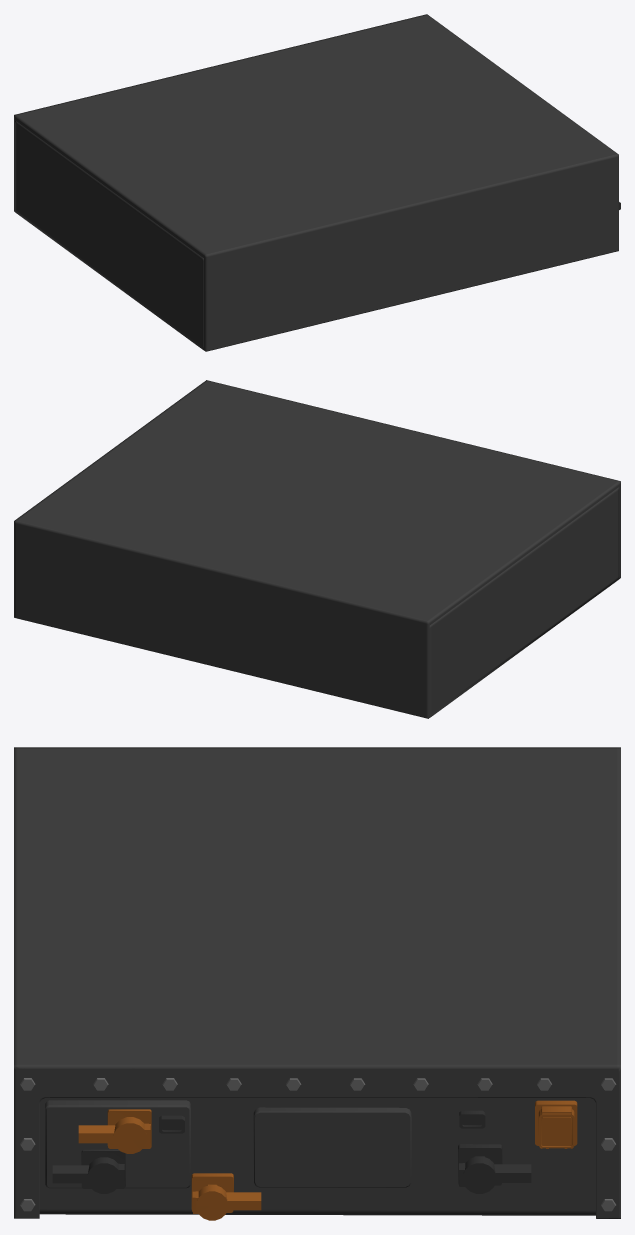
Rendered from packshell10(1).glb.
The picture shows the model from 3 angles, top to bottom: view 1: azimuth 30°, elevation 25°; view 2: azimuth 150°, elevation 25°; view 3: azimuth 270°, elevation 25°; orthographic projection. The views are drawn at different scales.
Parts seen in each view (by area): view 1: PS03_up002.001, PS03_down.001; view 2: PS03_up002.001, PS03_down.001; view 3: PS03_up002.001, PS03_down.001.
Boxes of the visible parts, box(x1,y1,x2,y2) form: PS03_up002.001: box(14, 14, 618, 351); PS03_down.001: box(15, 120, 620, 350); PS03_up002.001: box(14, 380, 620, 718); PS03_down.001: box(429, 487, 619, 717); PS03_up002.001: box(14, 747, 620, 1218); PS03_down.001: box(39, 1098, 595, 1220).
Bounding box in the file's own units: 0.9488 × 0.2037 × 0.7346.
